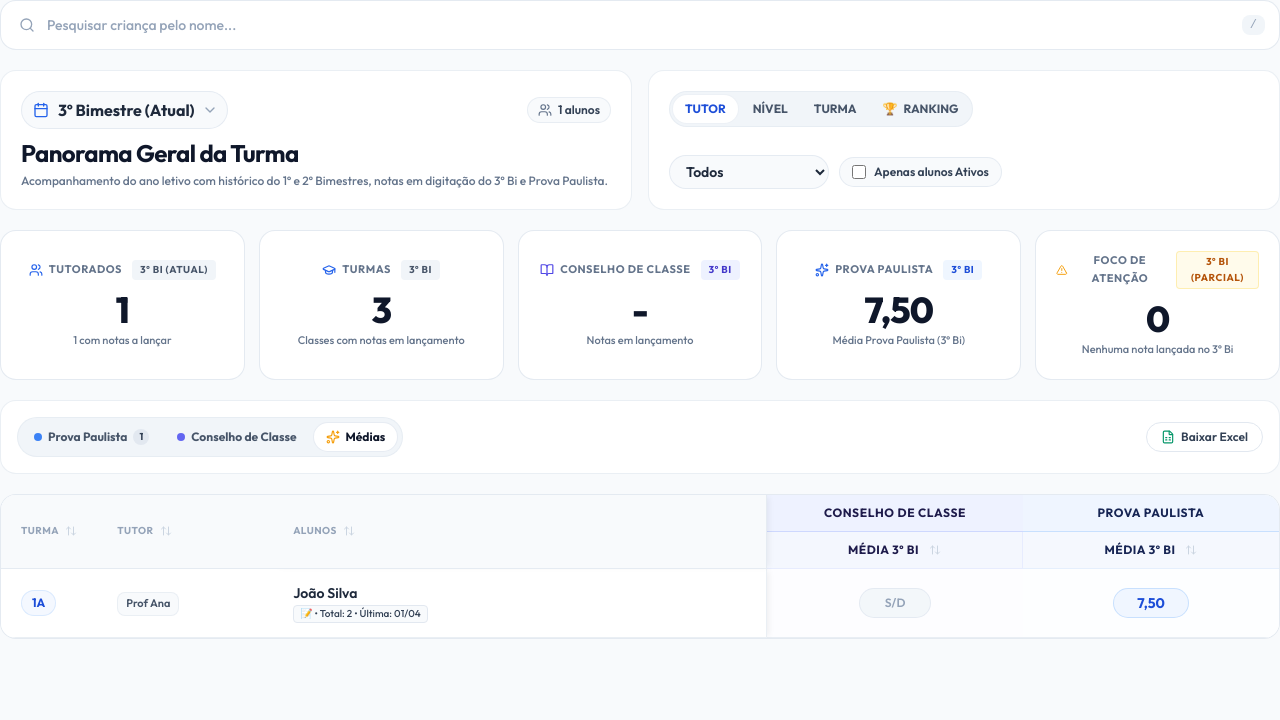
Test: Dashboard — Botões de Visão: Prova Paulista, Conselho de Classe e Médias › na Prova Paulista exibe somente as colunas com notas digitadas (ignora disciplinas com "-", "S/D" ou vazias)
The width and height of the screenshot is (1280, 720).
// Clica em Prova Paulista
Click the button "Prova Paulista 1".
click(92, 437)  # box [22,423,161,451]
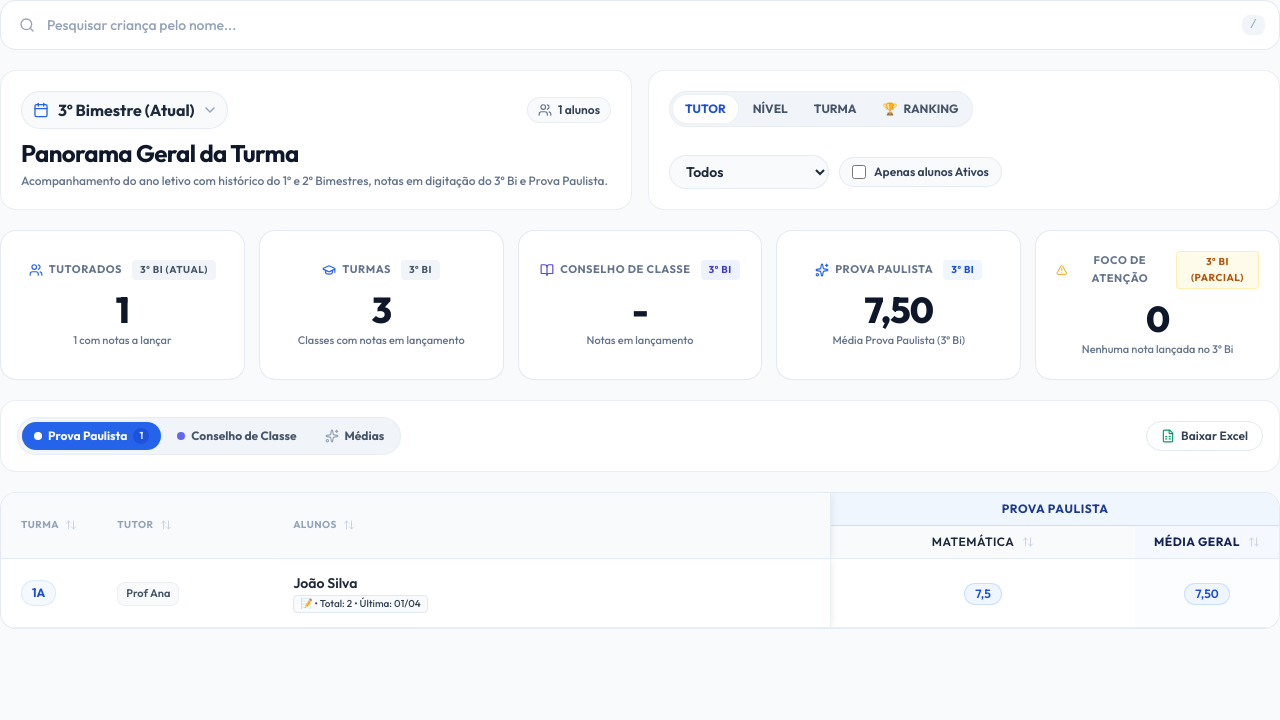
Now the text "MATEMÁTICA" is shown, box [932,534,1014,550]
